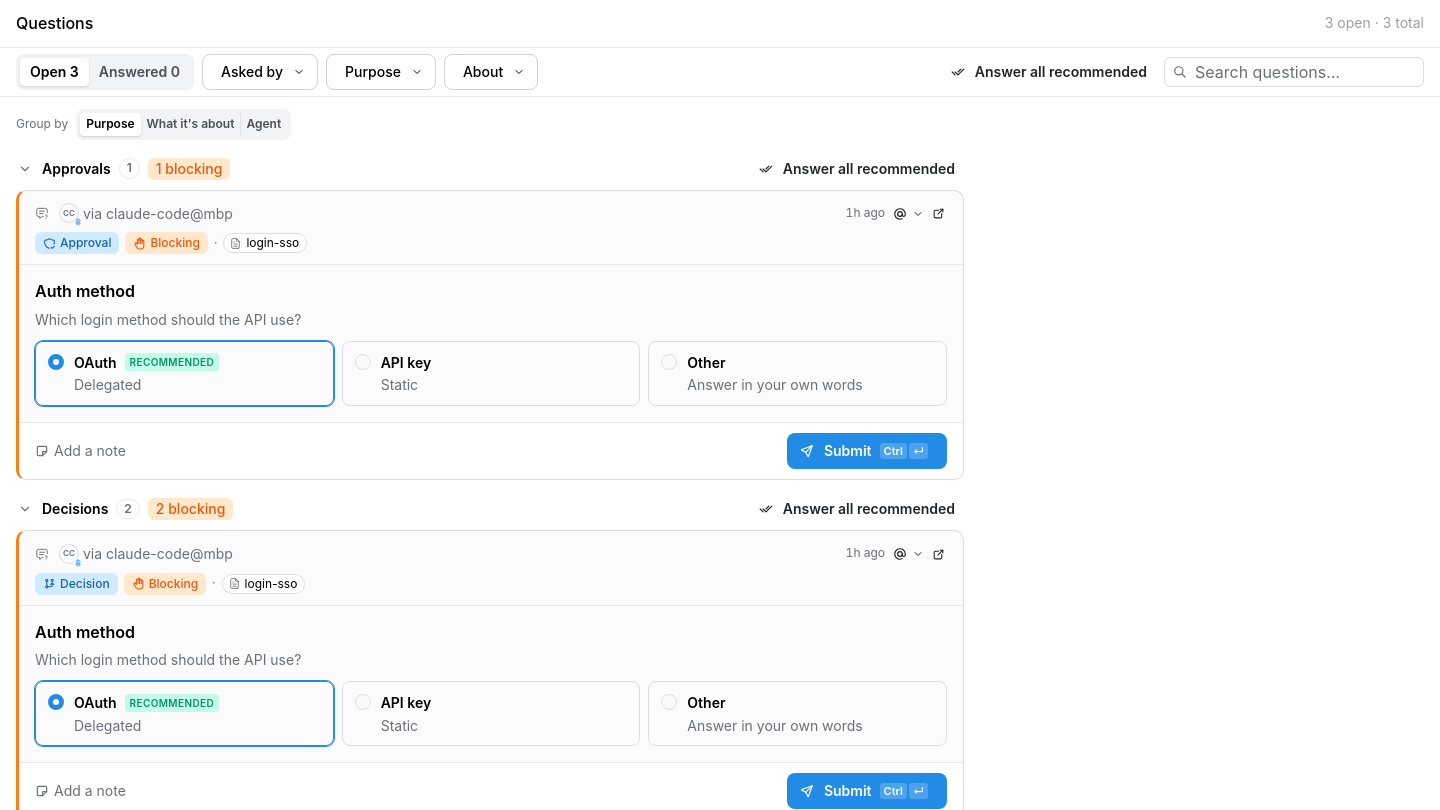
Scenario: questions list page › a group's Answer all recommended answers only that group's questions
Click the button with test id "q-group-answer-all-decision".
click(858, 509)  # box [752,496,964,522]
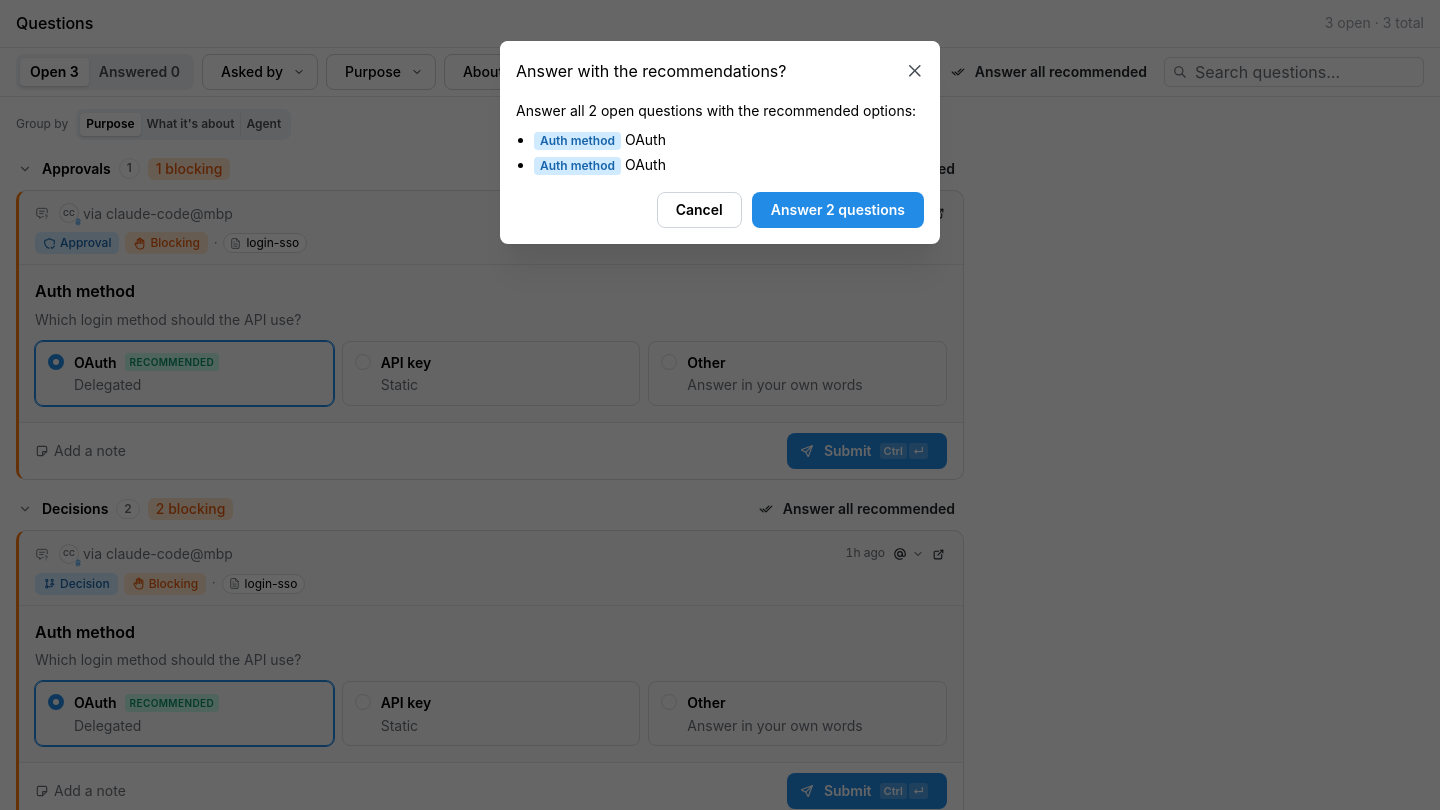
Click the button with test id "q-group-answer-all-decision-confirm".
click(838, 210)  # box [752,192,924,228]
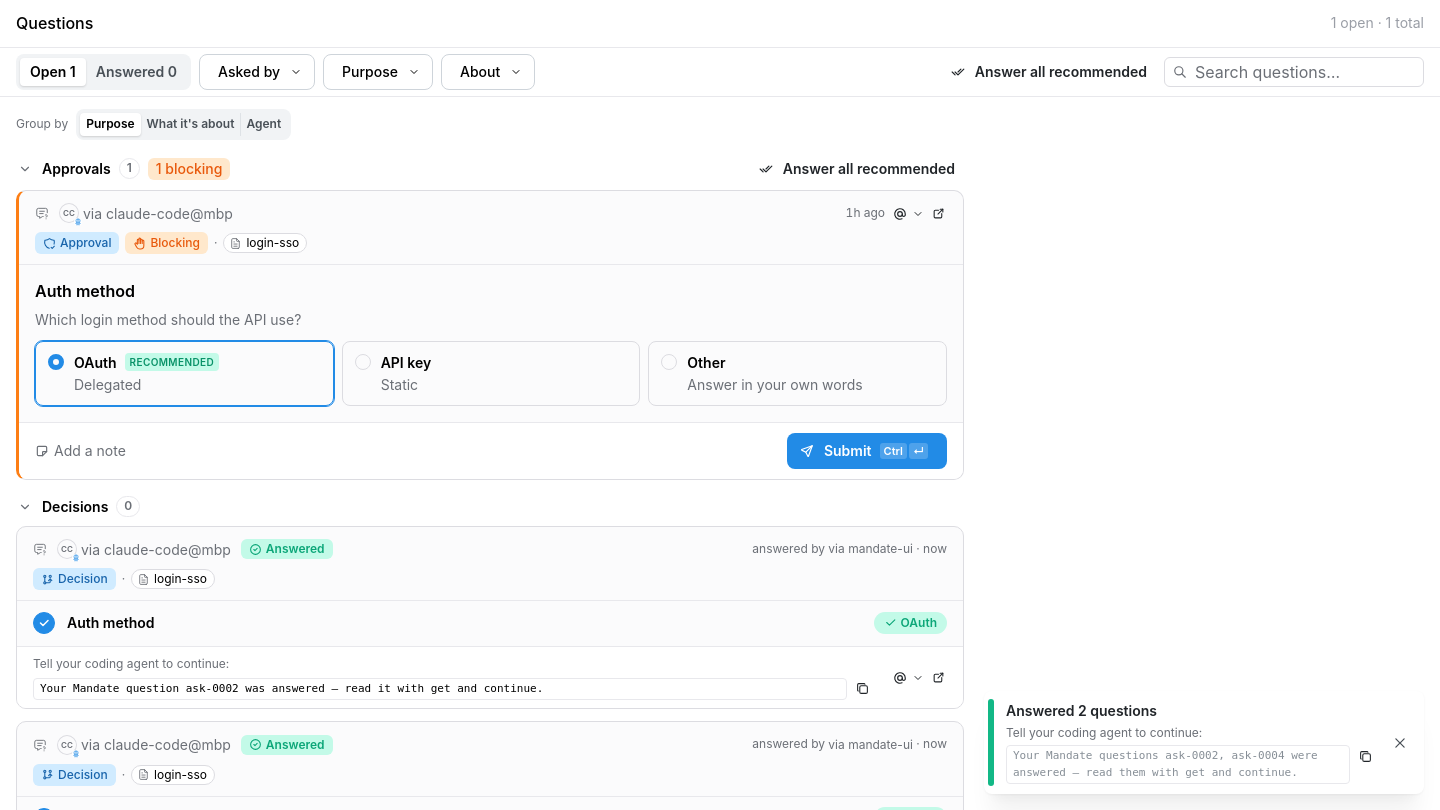
Expected: the list item with test id "question-ask-0001" is shown, [16,190,964,480]
Expected: the list item with test id "question-summary-ask-0002" is shown, [16,526,964,709]
